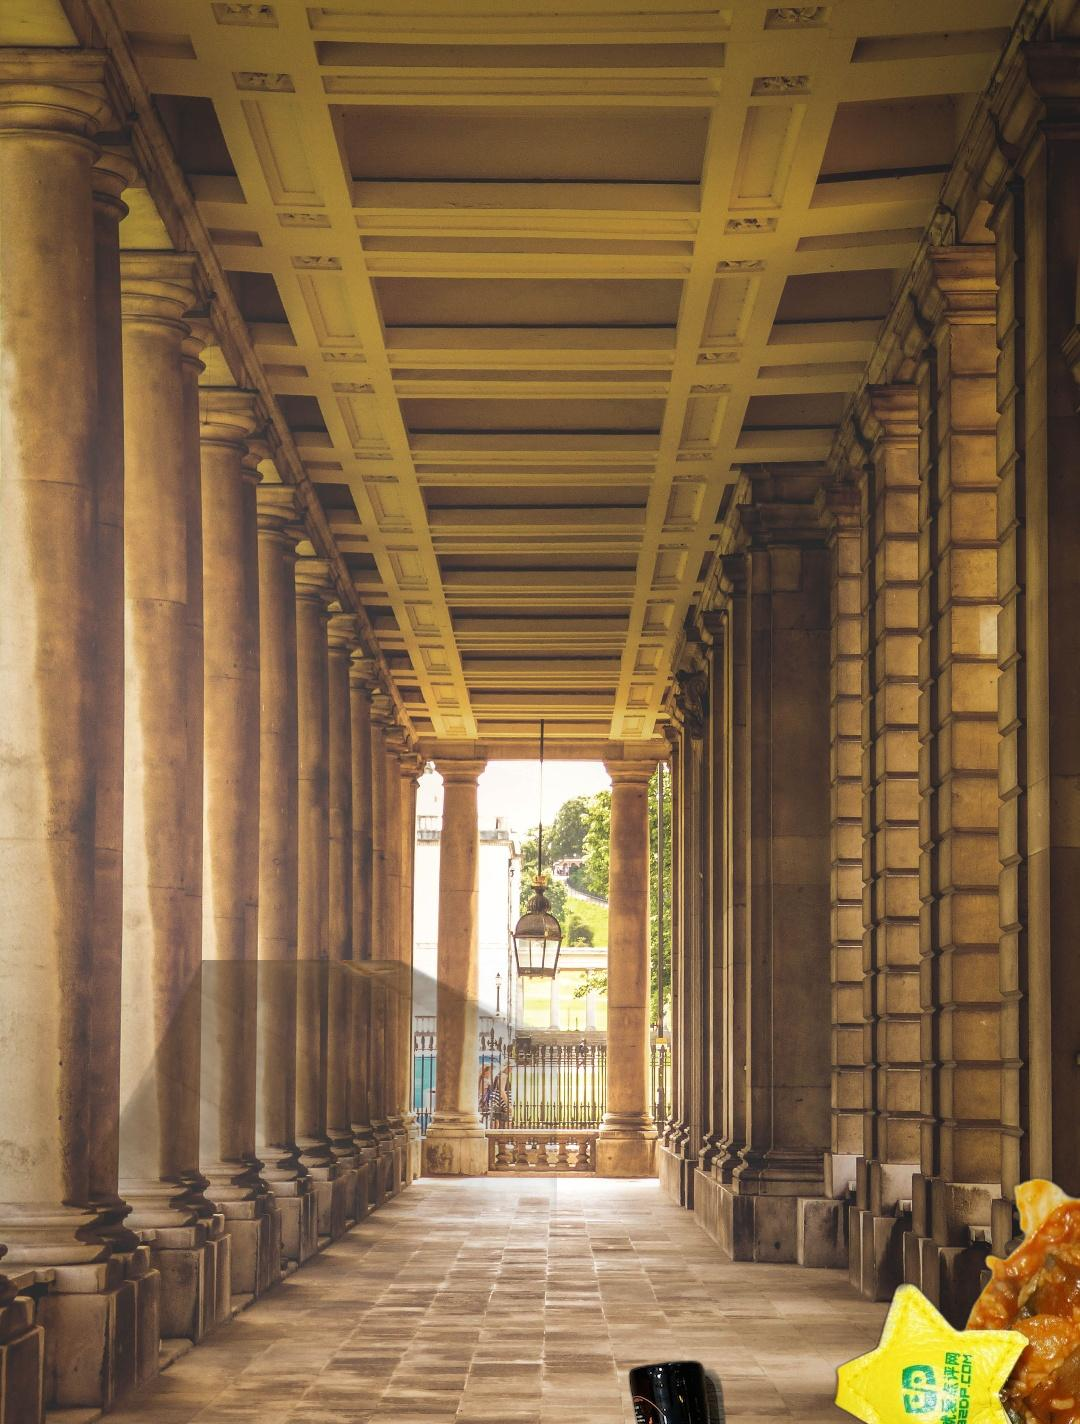biological: (822, 1174, 1080, 1424)
clothes: (606, 1422, 995, 1424)
glass: (624, 1356, 732, 1424)
trashbox-cardboard: (45, 960, 557, 1343)
